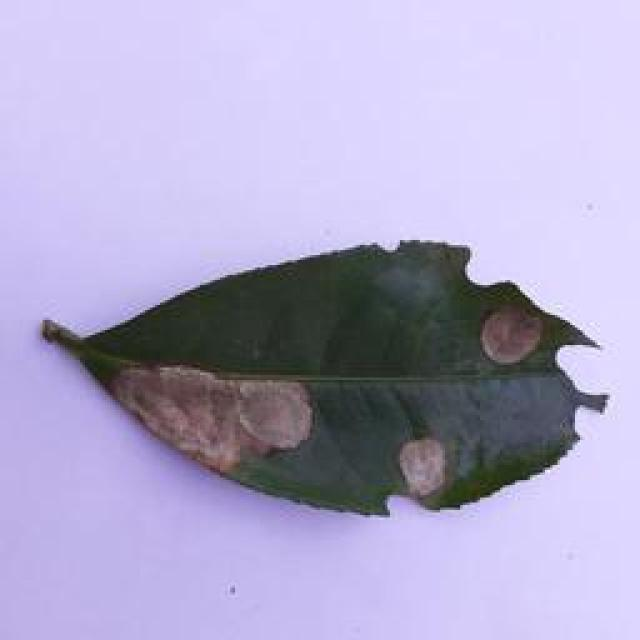Gray Blight: (40, 237, 609, 518)
